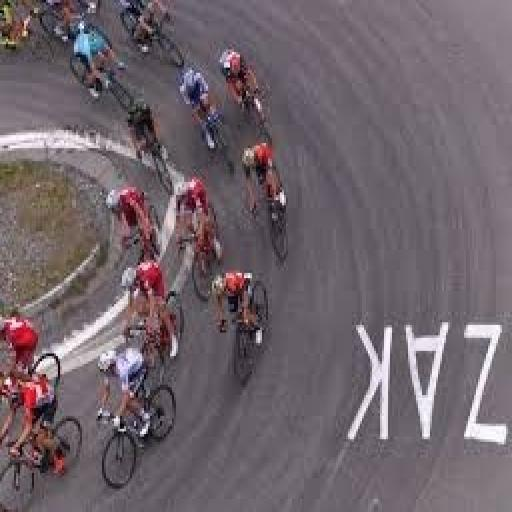cycling: (238, 142, 301, 258), (94, 343, 156, 442), (173, 174, 221, 284), (116, 97, 179, 179), (70, 31, 128, 115), (216, 44, 270, 133), (176, 60, 226, 156), (102, 182, 160, 257), (120, 2, 181, 72), (208, 265, 258, 335), (0, 301, 42, 377)
